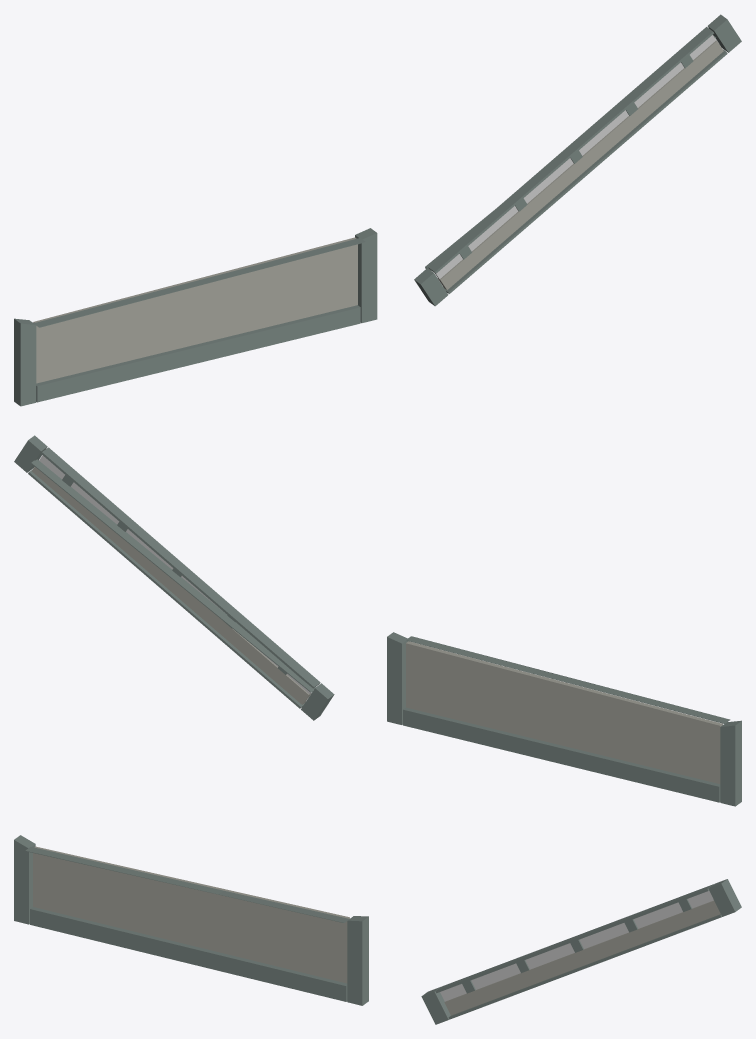
The model's file is SM_PuertaViaDoble_v0_TuboChapa_e2_MuyDanado_LOD1.fbx.
The picture shows the model from 3 angles, top to bottom: view 1: azimuth 30°, elevation 25°; view 2: azimuth 150°, elevation 25°; view 3: azimuth 330°, elevation 25°; orthographic projection. The views are drawn at different scales.
Visible parts, largest first — view 1: Hoja_O, Hoja_E; view 2: Hoja_O, Hoja_E; view 3: Hoja_O, Hoja_E.
Boxes of the visible parts, x1,y1,x2,y2 form: Hoja_O: [14, 228, 377, 406]; Hoja_E: [414, 14, 741, 306]; Hoja_O: [387, 632, 741, 806]; Hoja_E: [14, 435, 334, 720]; Hoja_O: [14, 835, 368, 1005]; Hoja_E: [421, 879, 741, 1024].
Size of what is drawn, in the model's own units: 7.53 by 2.13 by 0.39.
